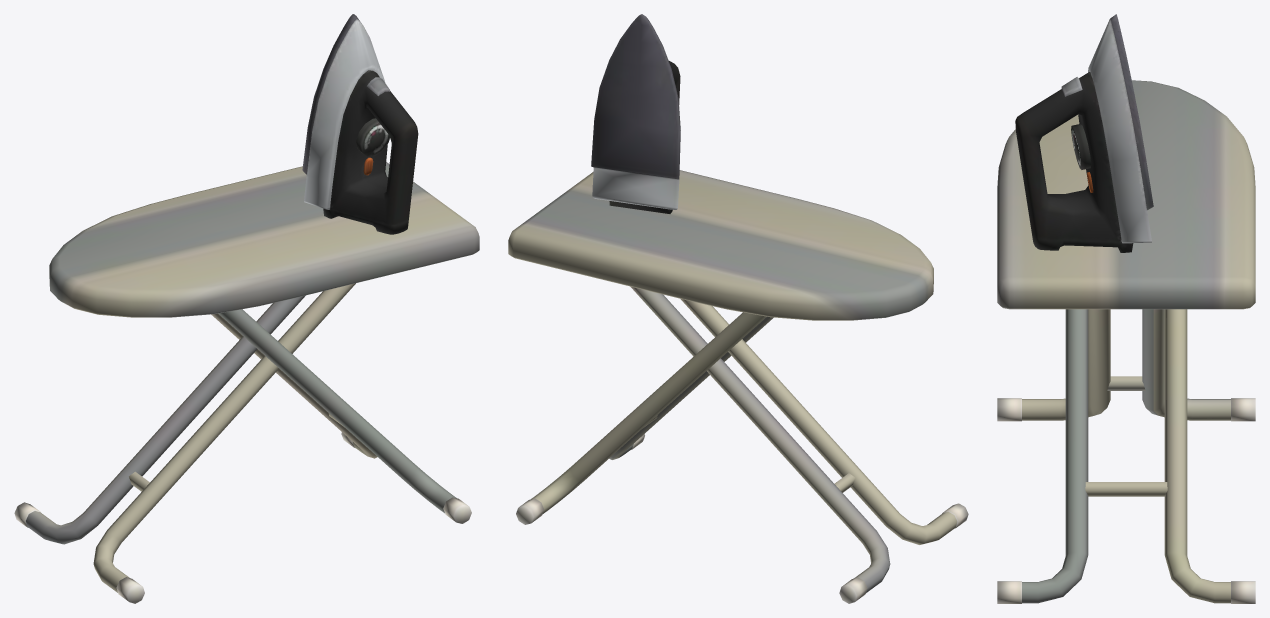
3 views of the same model, side by side, from view 1: azimuth 30°, elevation 25°; view 2: azimuth 150°, elevation 25°; view 3: azimuth 270°, elevation 25° (orthographic). The views are drawn at different scales.
Bounding box in the file's own units: 9.44 × 11.89 × 5.
2 materials, 2 textured.
